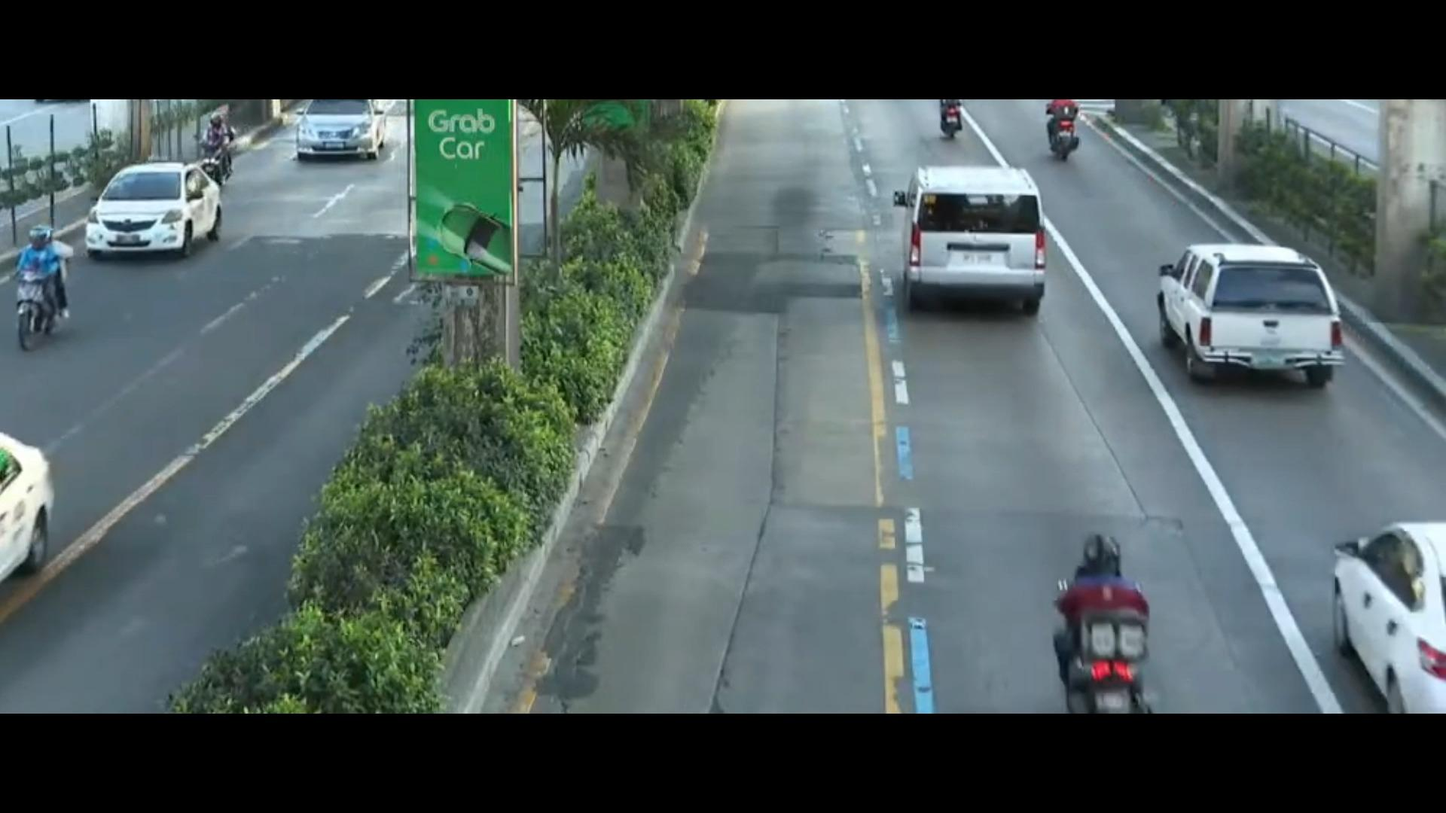Motorcycle: (1048, 525, 1173, 713), (1, 216, 96, 354), (1035, 103, 1113, 167), (196, 113, 247, 183), (927, 96, 977, 137)
SUV: (1140, 231, 1364, 428)
Sedan: (1304, 503, 1446, 711), (73, 144, 224, 272), (269, 105, 404, 179)
Van: (847, 149, 1065, 354)
